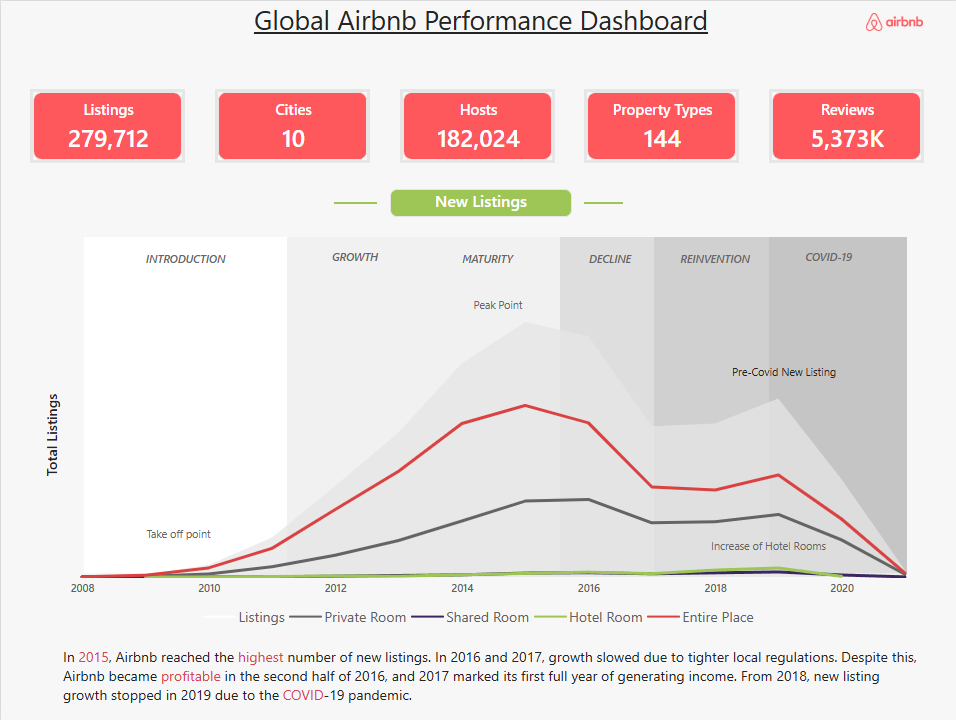

What the dashboard file says about the page in this screenshot:
{"tool":"powerbi","page":{"name":"Overiew","canvas":[960,720],"ordinal":0},"visuals":[{"type":"textbox","box":[83.2,0,793.6,60.3],"z":0},{"type":"image","box":[845.9,12.4,94.9,17.7],"z":1000},{"type":"cardVisual","fields":{"Data":["CountNonNull(Listings.listing_id)"]},"box":[29.3,87.8,155,74],"z":2000},{"type":"cardVisual","fields":{"Data":["Count(Listings.city)"]},"box":[213.9,87.8,155,74],"z":3000},{"type":"cardVisual","fields":{"Data":["Count(Listings.host_id)"]},"box":[398.6,87.8,155,74],"z":4000},{"type":"cardVisual","fields":{"Data":["Count(Listings.property_type)"]},"box":[583.2,87.8,155,74],"z":5000},{"type":"cardVisual","fields":{"Data":["Count(Reviews.review_id)"]},"box":[767.9,87.8,155,74],"z":6000},{"type":"textbox","box":[389.1,187.7,181.8,28.4],"z":7000},{"type":"shape","box":[583.4,180.9,39,41.7],"z":8000},{"type":"shape","box":[332.5,180.9,43.4,41.7],"z":9000},{"type":"shape","box":[83.3,235.9,203.1,336.1],"z":10000},{"type":"shape","box":[285.5,235.9,129.5,336.1],"z":11000},{"type":"shape","box":[415,235.9,143.6,336.1],"z":12000},{"type":"shape","box":[558.6,235.9,110,336.1],"z":13000},{"type":"shape","box":[653.5,235.9,202.2,336.1],"z":14000},{"type":"shape","box":[767.9,235.9,138.3,336.1],"z":15000},{"type":"textbox","box":[139.2,246.5,90.4,22.2],"z":16000},{"type":"textbox","box":[301.5,244.7,105.5,27.5],"z":17000},{"type":"textbox","box":[434.5,246.5,104.6,28.4],"z":18000},{"type":"textbox","box":[564.8,247.4,88.7,27.5],"z":19000},{"type":"textbox","box":[653.5,247.4,121.5,28.4],"z":20000},{"type":"textbox","box":[243,339.6,156.9,60.3],"z":21000},{"type":"textbox","box":[760.8,244.7,133,30.1],"z":22000},{"type":"lineChart","fields":{"Category":["Listings.host_since.Variation.Date Hierarchy.Year"],"Y":["CountNonNull(Listings.listing_id)","Listings.Private Room","Listings.Shared Room","Listings.Hotel Room","Listings.Entire Place"]},"box":[29.3,268.7,902.7,377.7],"z":23000},{"type":"textbox","box":[447.8,292.6,98.4,23.9],"z":24000},{"type":"textbox","box":[125,522.3,104.6,23.1],"z":25000},{"type":"textbox","box":[720,360,125.9,25.7],"z":26000},{"type":"textbox","box":[705.8,533.8,123.3,30.1],"z":27000},{"type":"textbox","box":[20.4,646.4,902.7,73.6],"z":28000}]}

Visuals, with their boxes in screenshot pixels (x1, y1, x2, y2), scaled from the page's 960x720 canvas onto the 956x720 screenshot:
textbox: [x1=83, y1=0, x2=873, y2=60]
image: [x1=842, y1=12, x2=937, y2=30]
cardVisual - CountNonNull(Listings.listing_id): [x1=29, y1=88, x2=184, y2=162]
cardVisual - Count(Listings.city): [x1=213, y1=88, x2=367, y2=162]
cardVisual - Count(Listings.host_id): [x1=397, y1=88, x2=551, y2=162]
cardVisual - Count(Listings.property_type): [x1=581, y1=88, x2=735, y2=162]
cardVisual - Count(Reviews.review_id): [x1=765, y1=88, x2=919, y2=162]
textbox: [x1=387, y1=188, x2=569, y2=216]
shape: [x1=581, y1=181, x2=620, y2=223]
shape: [x1=331, y1=181, x2=374, y2=223]
shape: [x1=83, y1=236, x2=285, y2=572]
shape: [x1=284, y1=236, x2=413, y2=572]
shape: [x1=413, y1=236, x2=556, y2=572]
shape: [x1=556, y1=236, x2=666, y2=572]
shape: [x1=651, y1=236, x2=852, y2=572]
shape: [x1=765, y1=236, x2=902, y2=572]
textbox: [x1=139, y1=246, x2=229, y2=269]
textbox: [x1=300, y1=245, x2=405, y2=272]
textbox: [x1=433, y1=246, x2=537, y2=275]
textbox: [x1=562, y1=247, x2=651, y2=275]
textbox: [x1=651, y1=247, x2=772, y2=276]
textbox: [x1=242, y1=340, x2=398, y2=400]
textbox: [x1=758, y1=245, x2=890, y2=275]
lineChart - Listings.host_since.Variation.Date Hierarchy.Year x CountNonNull(Listings.listing_id): [x1=29, y1=269, x2=928, y2=646]
textbox: [x1=446, y1=293, x2=544, y2=316]
textbox: [x1=124, y1=522, x2=229, y2=545]
textbox: [x1=717, y1=360, x2=842, y2=386]
textbox: [x1=703, y1=534, x2=826, y2=564]
textbox: [x1=20, y1=646, x2=919, y2=719]
